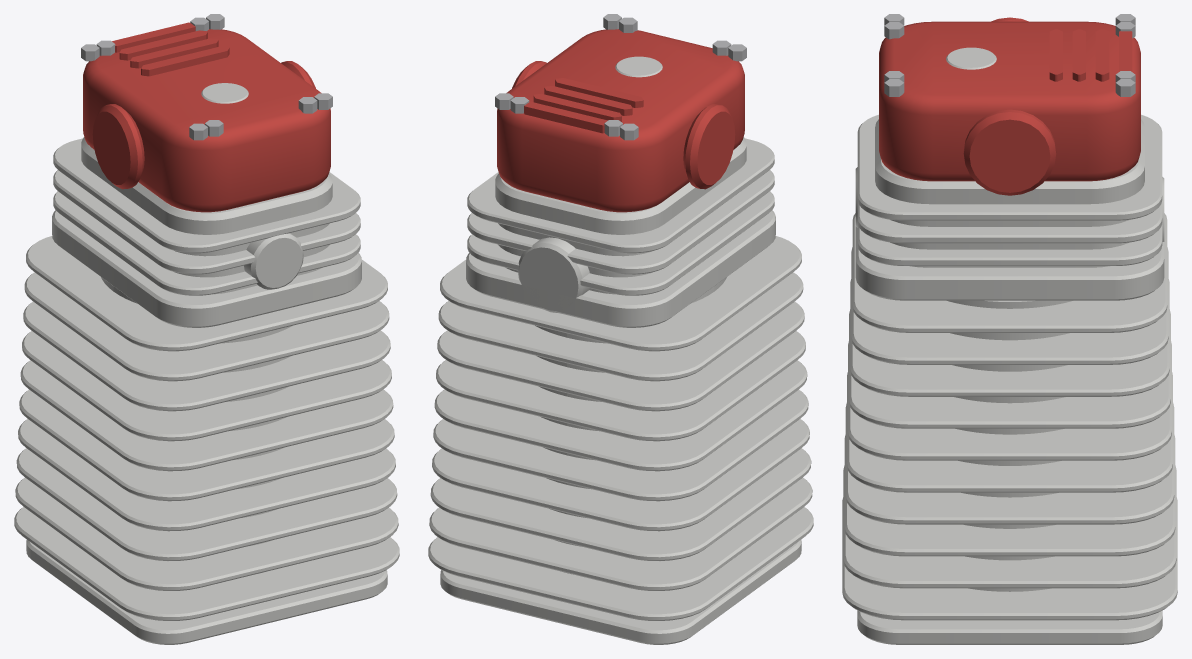
File: hot_cam.glb
The picture shows the model from 3 angles, left to right: view 1: azimuth 30°, elevation 25°; view 2: azimuth 150°, elevation 25°; view 3: azimuth 270°, elevation 25°; orthographic projection. The views are drawn at different scales.
Parts seen in each view (by area): view 1: lod0; view 2: lod0; view 3: lod0.
Boxes of the visible parts, box(x1,y1,x2,y2) form: lod0: box(14, 14, 399, 644); lod0: box(428, 14, 813, 644); lod0: box(842, 14, 1177, 644).
Size of what is drawn, in the model's own units: 0.174 by 0.3043 by 0.174.
